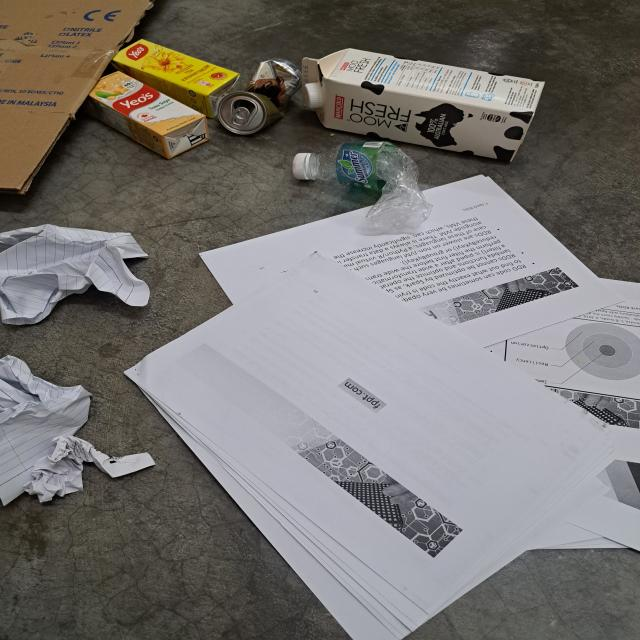can: (217, 58, 301, 136)
cardboard: (0, 0, 155, 196)
drink carton: (300, 47, 543, 162), (85, 71, 210, 158), (113, 38, 240, 119)
paper: (126, 171, 640, 640), (0, 355, 156, 509), (0, 226, 149, 328)
plastic bottle: (290, 138, 428, 228)
plastic bottle cap: (291, 152, 321, 184), (301, 81, 324, 111)
pop tab: (229, 108, 254, 126)
